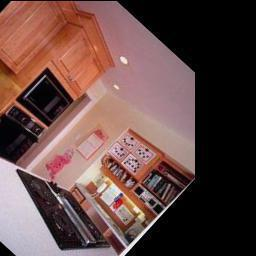Electrodomestico: (1, 158, 120, 256), (19, 69, 78, 128), (0, 101, 45, 165)
